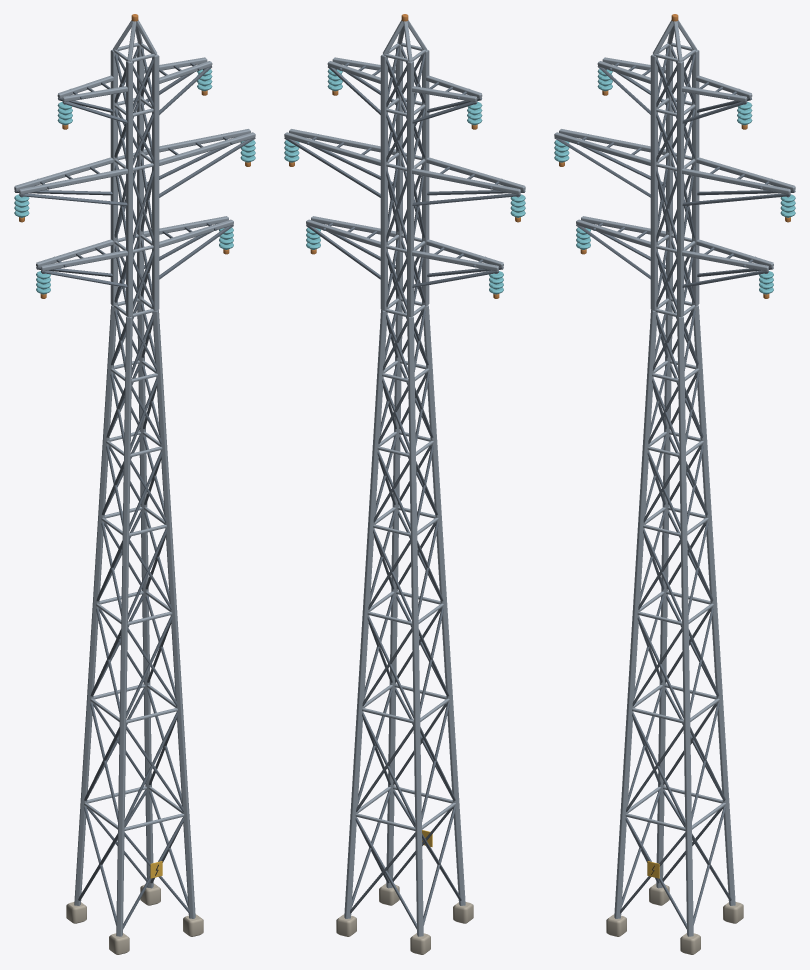
The model's file is poteau_tres_haute_tension.glb.
3 renders of one model, left to right at view 1: azimuth 30°, elevation 25°; view 2: azimuth 150°, elevation 25°; view 3: azimuth 330°, elevation 25°, orthographic.
Parts seen in each view (by area): view 1: pieces_pylone.004, pieces_pylone_sombre.004, pieces_isolateur_verre.004, pieces_socle_beton.004; view 2: pieces_pylone.004, pieces_pylone_sombre.004, pieces_isolateur_verre.004, pieces_socle_beton.004; view 3: pieces_pylone.004, pieces_pylone_sombre.004, pieces_isolateur_verre.004, pieces_socle_beton.004.
Boxes of the visible parts, bbox=[...] form: pieces_pylone.004: bbox=[14, 20, 255, 936]; pieces_pylone_sombre.004: bbox=[14, 47, 255, 929]; pieces_isolateur_verre.004: bbox=[14, 69, 255, 294]; pieces_socle_beton.004: bbox=[66, 883, 203, 954]; pieces_pylone.004: bbox=[284, 20, 525, 936]; pieces_pylone_sombre.004: bbox=[284, 47, 525, 929]; pieces_isolateur_verre.004: bbox=[284, 69, 525, 294]; pieces_socle_beton.004: bbox=[336, 883, 473, 954]; pieces_pylone.004: bbox=[554, 20, 795, 936]; pieces_pylone_sombre.004: bbox=[554, 47, 795, 929]; pieces_isolateur_verre.004: bbox=[554, 69, 795, 294]; pieces_socle_beton.004: bbox=[606, 883, 743, 954].
Size of the model in its own units: 2.75 by 10.01 by 1.02.
